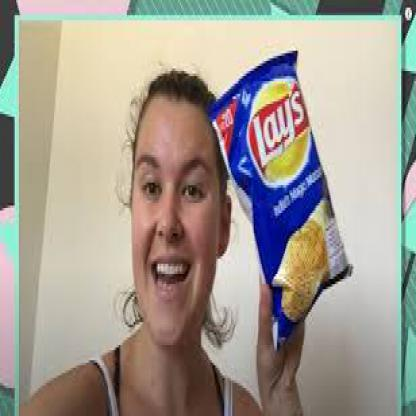indian_magic_masala: (208, 51, 347, 340)
